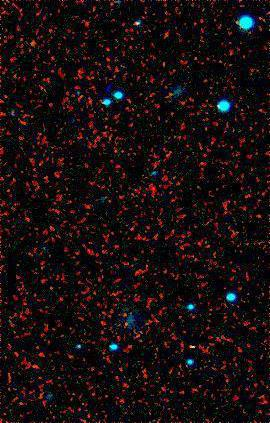star: (176, 333, 206, 363)
